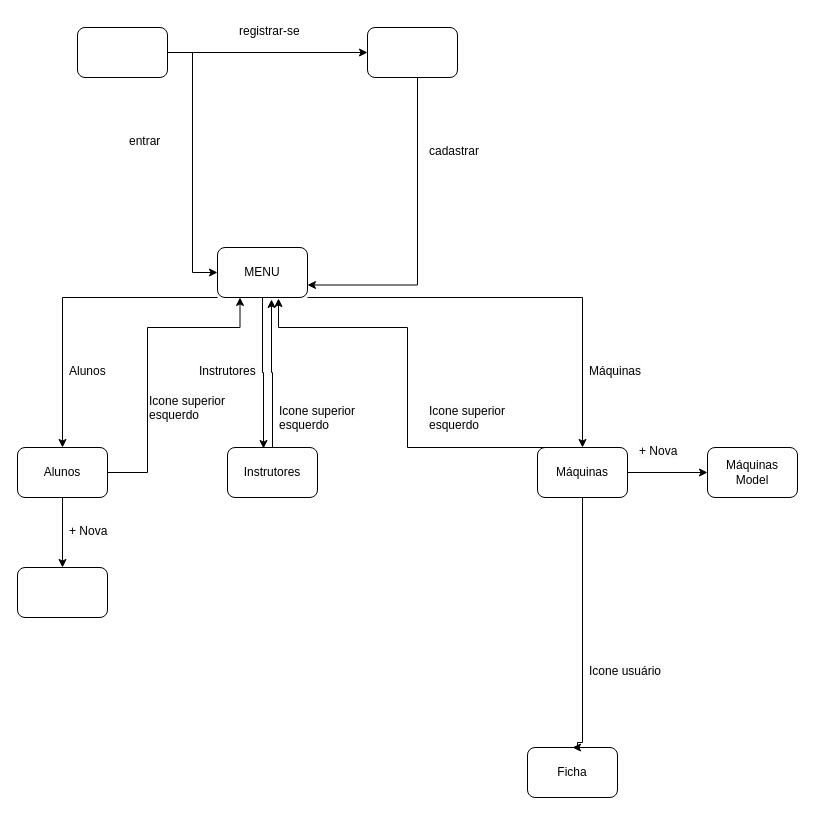
This 815x815 diagram has some shape labels left out. Here are the shapes that lost their labels. From the top down, the centre of each, then its label:
At point (122, 52): "Login".
At point (412, 52): "Registrar".
At point (62, 592): "Alunos Mode".
